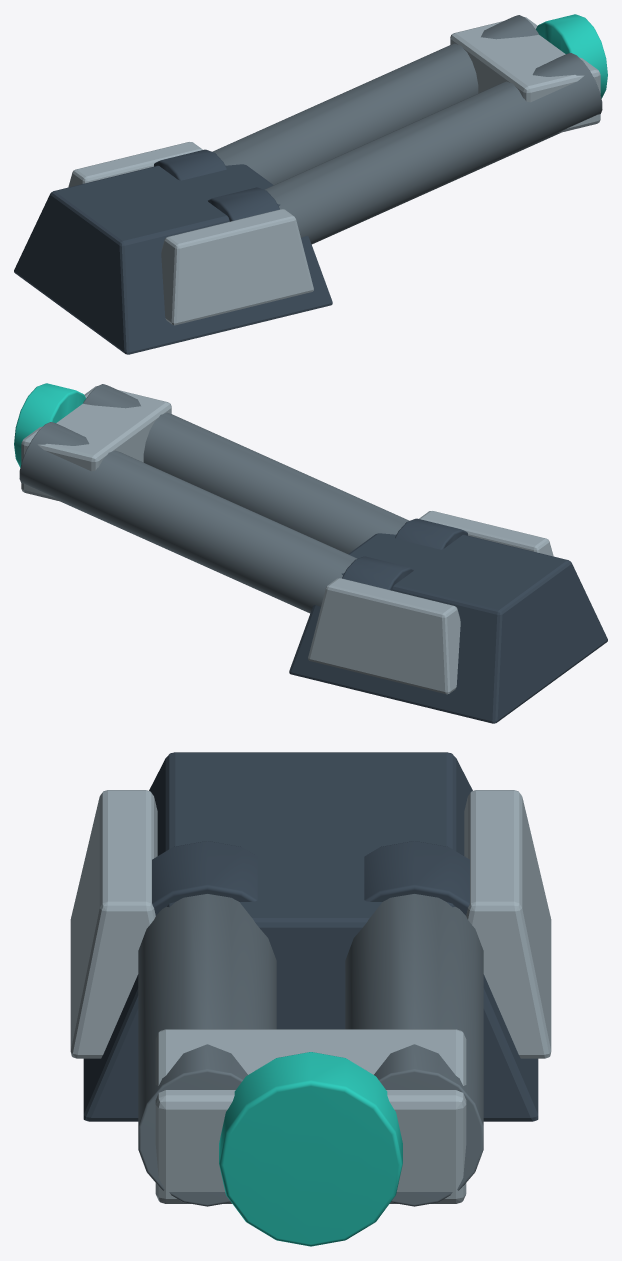
Rendered from SM_Cinderthrow_Weapon.fbx.
3 views of the same model, one above another, from view 1: azimuth 30°, elevation 25°; view 2: azimuth 150°, elevation 25°; view 3: azimuth 270°, elevation 25° (orthographic). The views are drawn at different scales.
Parts seen in each view (by area): view 1: SM_Cinderthrow_Weapon; view 2: SM_Cinderthrow_Weapon; view 3: SM_Cinderthrow_Weapon.
Boxes of the visible parts, box(x1,y1,x2,y2) form: SM_Cinderthrow_Weapon: box(14, 14, 607, 354); SM_Cinderthrow_Weapon: box(14, 383, 607, 723); SM_Cinderthrow_Weapon: box(70, 752, 551, 1246).
Size of the model in its own units: 49.5 by 19.94 by 17.07.
